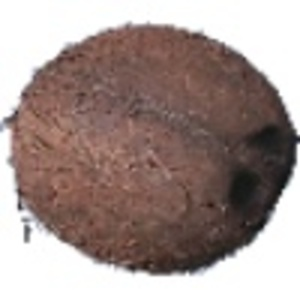coco: (1, 24, 300, 276)
